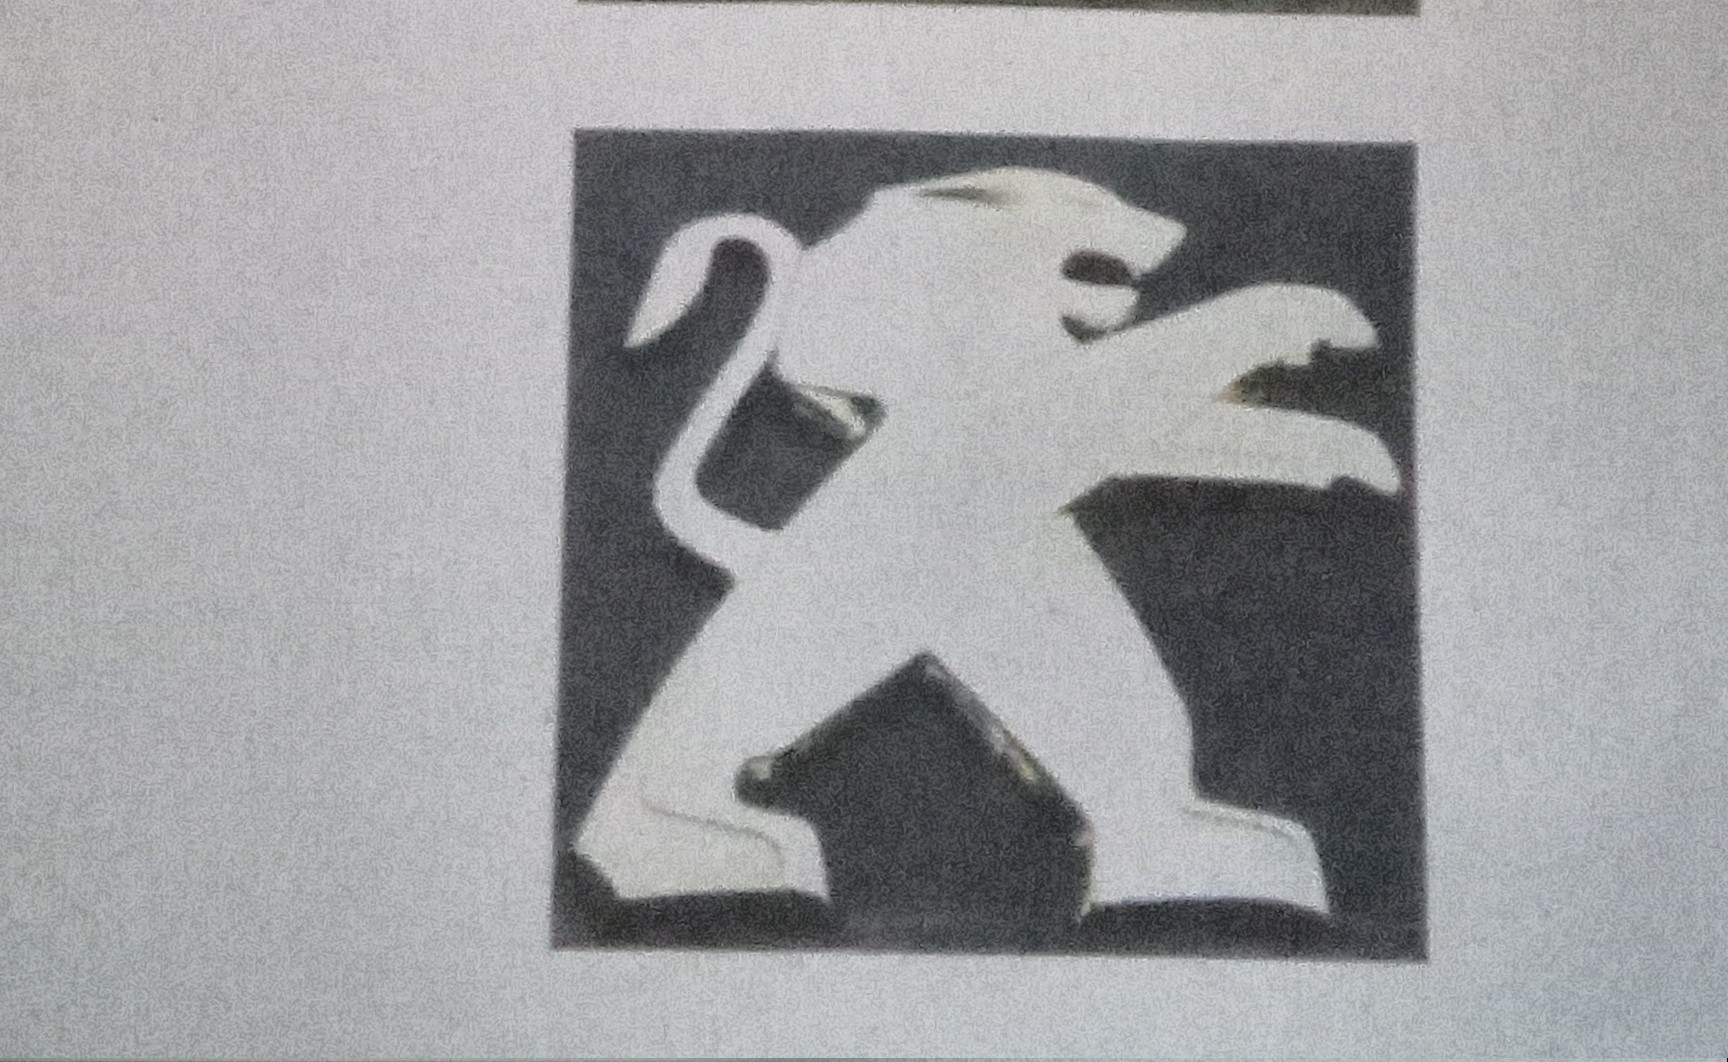Peugeot: (567, 131, 1412, 943)
